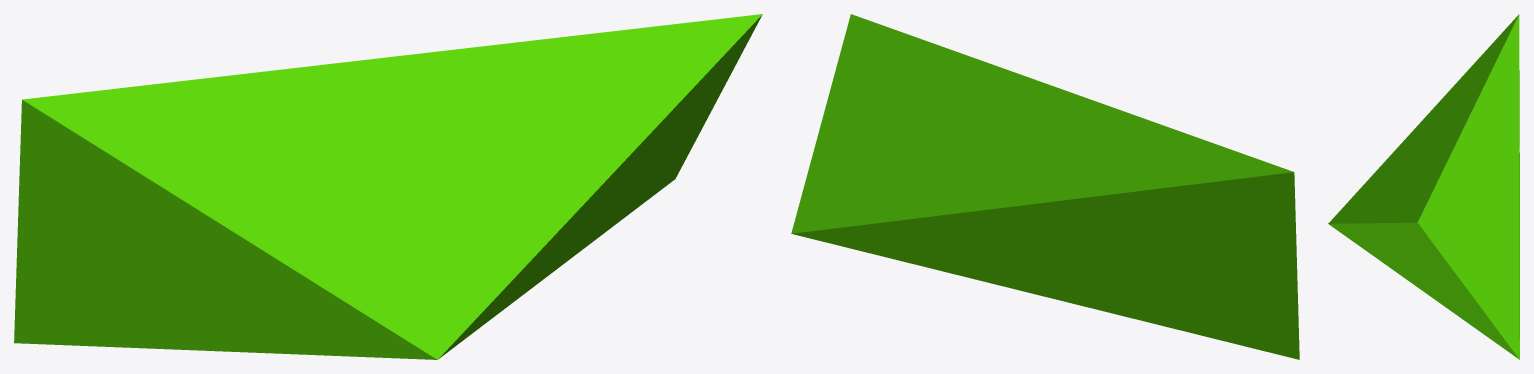
The model's file is garden_table_convex_piece_017.obj.
3 renders of one model, left to right at view 1: azimuth 30°, elevation 25°; view 2: azimuth 150°, elevation 25°; view 3: azimuth 270°, elevation 25°, orthographic. The views are drawn at different scales.
Size of the model in its own units: 0.086 by 0.0299 by 0.0346.
